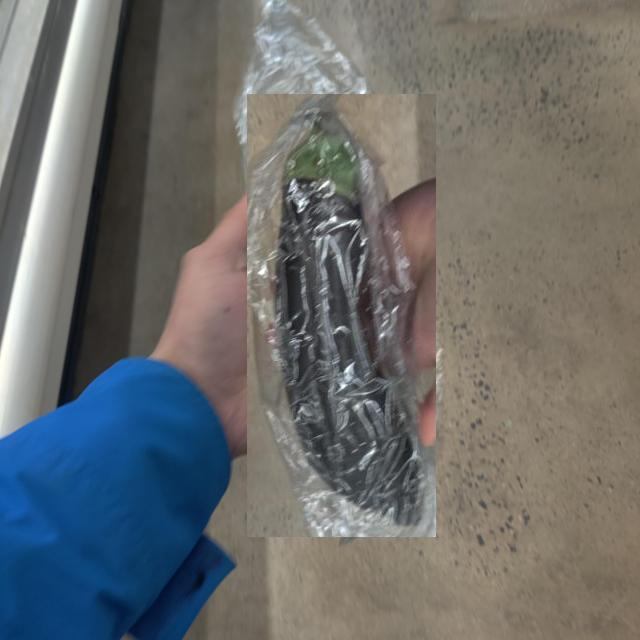Eggplant: (246, 94, 436, 537)
